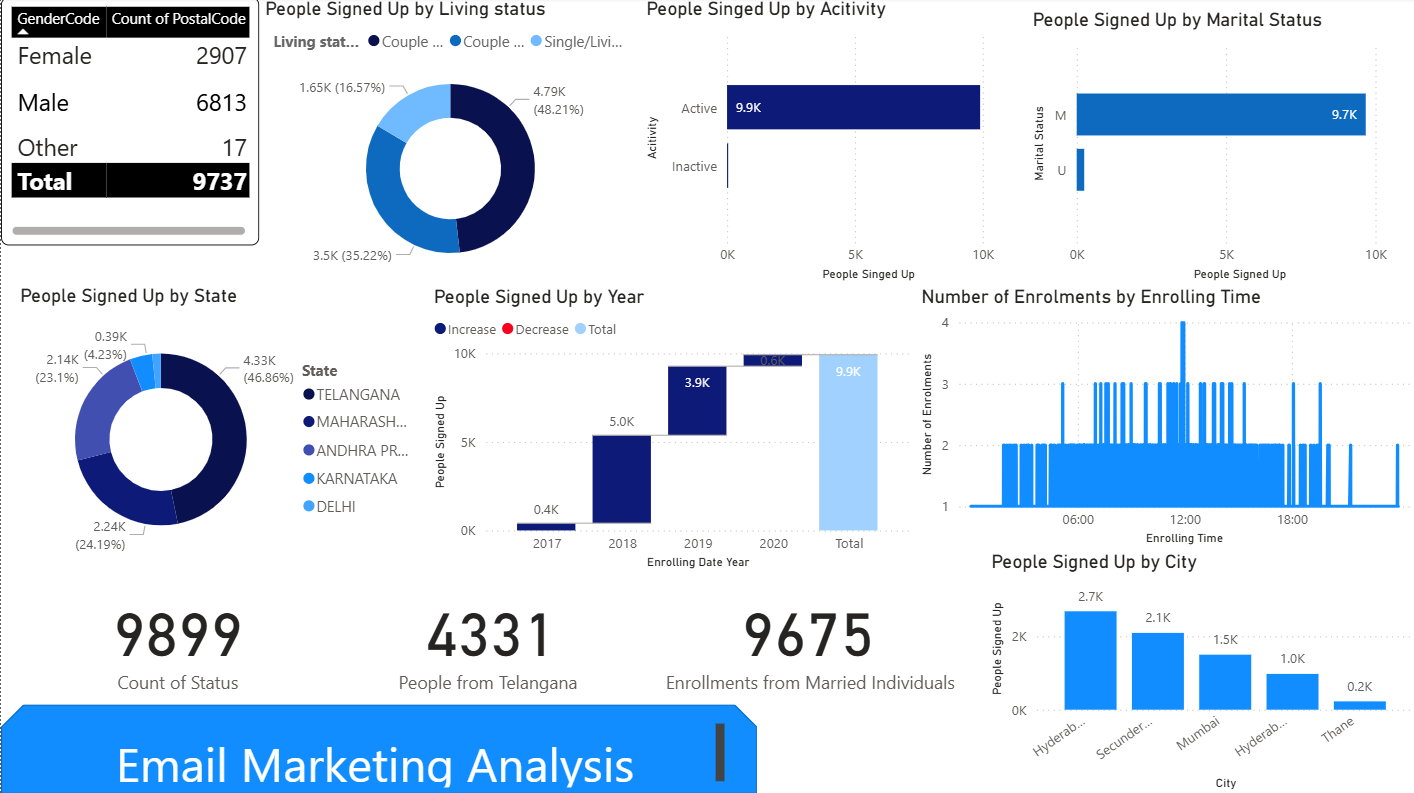

What the dashboard file says about the page in this screenshot:
{"tool":"powerbi","page":{"name":"Page 1","canvas":[1280,720],"ordinal":0},"visuals":[{"type":"tableEx","fields":{"Values":["TBL_CustomerProfileData.GenderCode","CountNonNull(TBL_CustomerProfileData.PostalCode)"]},"box":[0,0,232.9,224.3],"z":0},{"type":"donutChart","title":"People Signed Up by Living status","fields":{"Y":["CountNonNull(TBL_CustomerProfileData.Living status)"],"Category":["TBL_CustomerProfileData.Living status"]},"box":[233.3,0,344.2,260.6],"z":1000},{"type":"barChart","title":"People Singed Up by Acitivity","fields":{"Y":["CountNonNull(TBL_CustomerProfileData.Status)"],"Category":["TBL_CustomerProfileData.Status"]},"box":[577.4,0,348.5,260.6],"z":2000},{"type":"barChart","title":"People Signed Up by Marital Status","fields":{"Category":["TBL_CustomerProfileData.MaritalStatus"],"Y":["CountNonNull(TBL_CustomerProfileData.MaritalStatus)"]},"box":[925.9,10.1,354.2,250.6],"z":3000},{"type":"donutChart","title":" People Signed Up by State","fields":{"Category":["TBL_CustomerProfileData.State"],"Y":["CountNonNull(TBL_CustomerProfileData.State)"]},"box":[13,259.2,373,260.6],"z":4000},{"type":"waterfallChart","title":" People Signed Up by Year","fields":{"Category":["TBL_CustomerProfileData.Enrolled on .Variation.Date Hierarchy.Year"],"Y":["CountNonNull(TBL_CustomerProfileData.Date)"]},"box":[385.9,260.6,439.2,260.6],"z":5000},{"type":"areaChart","title":" Number of Enrolments by Enrolling Time","fields":{"Category":["TBL_CustomerProfileData.Time"],"Y":["CountNonNull(TBL_CustomerProfileData.Time)"]},"box":[825.1,260.6,455,239],"z":6000},{"type":"columnChart","title":"People Signed Up by City","fields":{"Category":["TBL_CustomerProfileData.City"],"Y":["CountNonNull(TBL_CustomerProfileData.City)"]},"box":[888.5,499.7,391.7,220.3],"z":7000},{"type":"card","fields":{"Values":["CountNonNull(TBL_CustomerProfileData.MaritalStatus)"]},"box":[577.8,519.1,299,119.3],"z":8000},{"type":"card","fields":{"Values":["CountNonNull(TBL_CustomerProfileData.State)"]},"box":[305.7,520.7,272.1,117.6],"z":9000},{"type":"card","fields":{"Values":["CountNonNull(TBL_CustomerProfileData.Status)"]},"box":[13.4,520.7,292.3,117.6],"z":10000},{"type":"shape","box":[0,638.3,682,80.6],"z":10001},{"type":"textbox","box":[13,650.9,645.1,67.7],"z":10002}]}

Visuals, with their boxes in screenshot pixels (x1, y1, x2, y2), scaled from the page's 1280x720 canvas onto the 1414x793 screenshot:
tableEx - TBL_CustomerProfileData.GenderCode x CountNonNull(TBL_CustomerProfileData.PostalCode): x1=0 y1=0 x2=257 y2=247
"People Signed Up by Living status" donutChart: x1=258 y1=0 x2=638 y2=287
"People Singed Up by Acitivity" barChart: x1=638 y1=0 x2=1023 y2=287
"People Signed Up by Marital Status" barChart: x1=1023 y1=11 x2=1413 y2=287
" People Signed Up by State" donutChart: x1=14 y1=285 x2=426 y2=573
" People Signed Up by Year" waterfallChart: x1=426 y1=287 x2=911 y2=574
" Number of Enrolments by Enrolling Time" areaChart: x1=911 y1=287 x2=1413 y2=550
"People Signed Up by City" columnChart: x1=982 y1=550 x2=1413 y2=792
card - CountNonNull(TBL_CustomerProfileData.MaritalStatus): x1=638 y1=572 x2=969 y2=703
card - CountNonNull(TBL_CustomerProfileData.State): x1=338 y1=573 x2=638 y2=703
card - CountNonNull(TBL_CustomerProfileData.Status): x1=15 y1=573 x2=338 y2=703
shape: x1=0 y1=703 x2=753 y2=792
textbox: x1=14 y1=717 x2=727 y2=791
